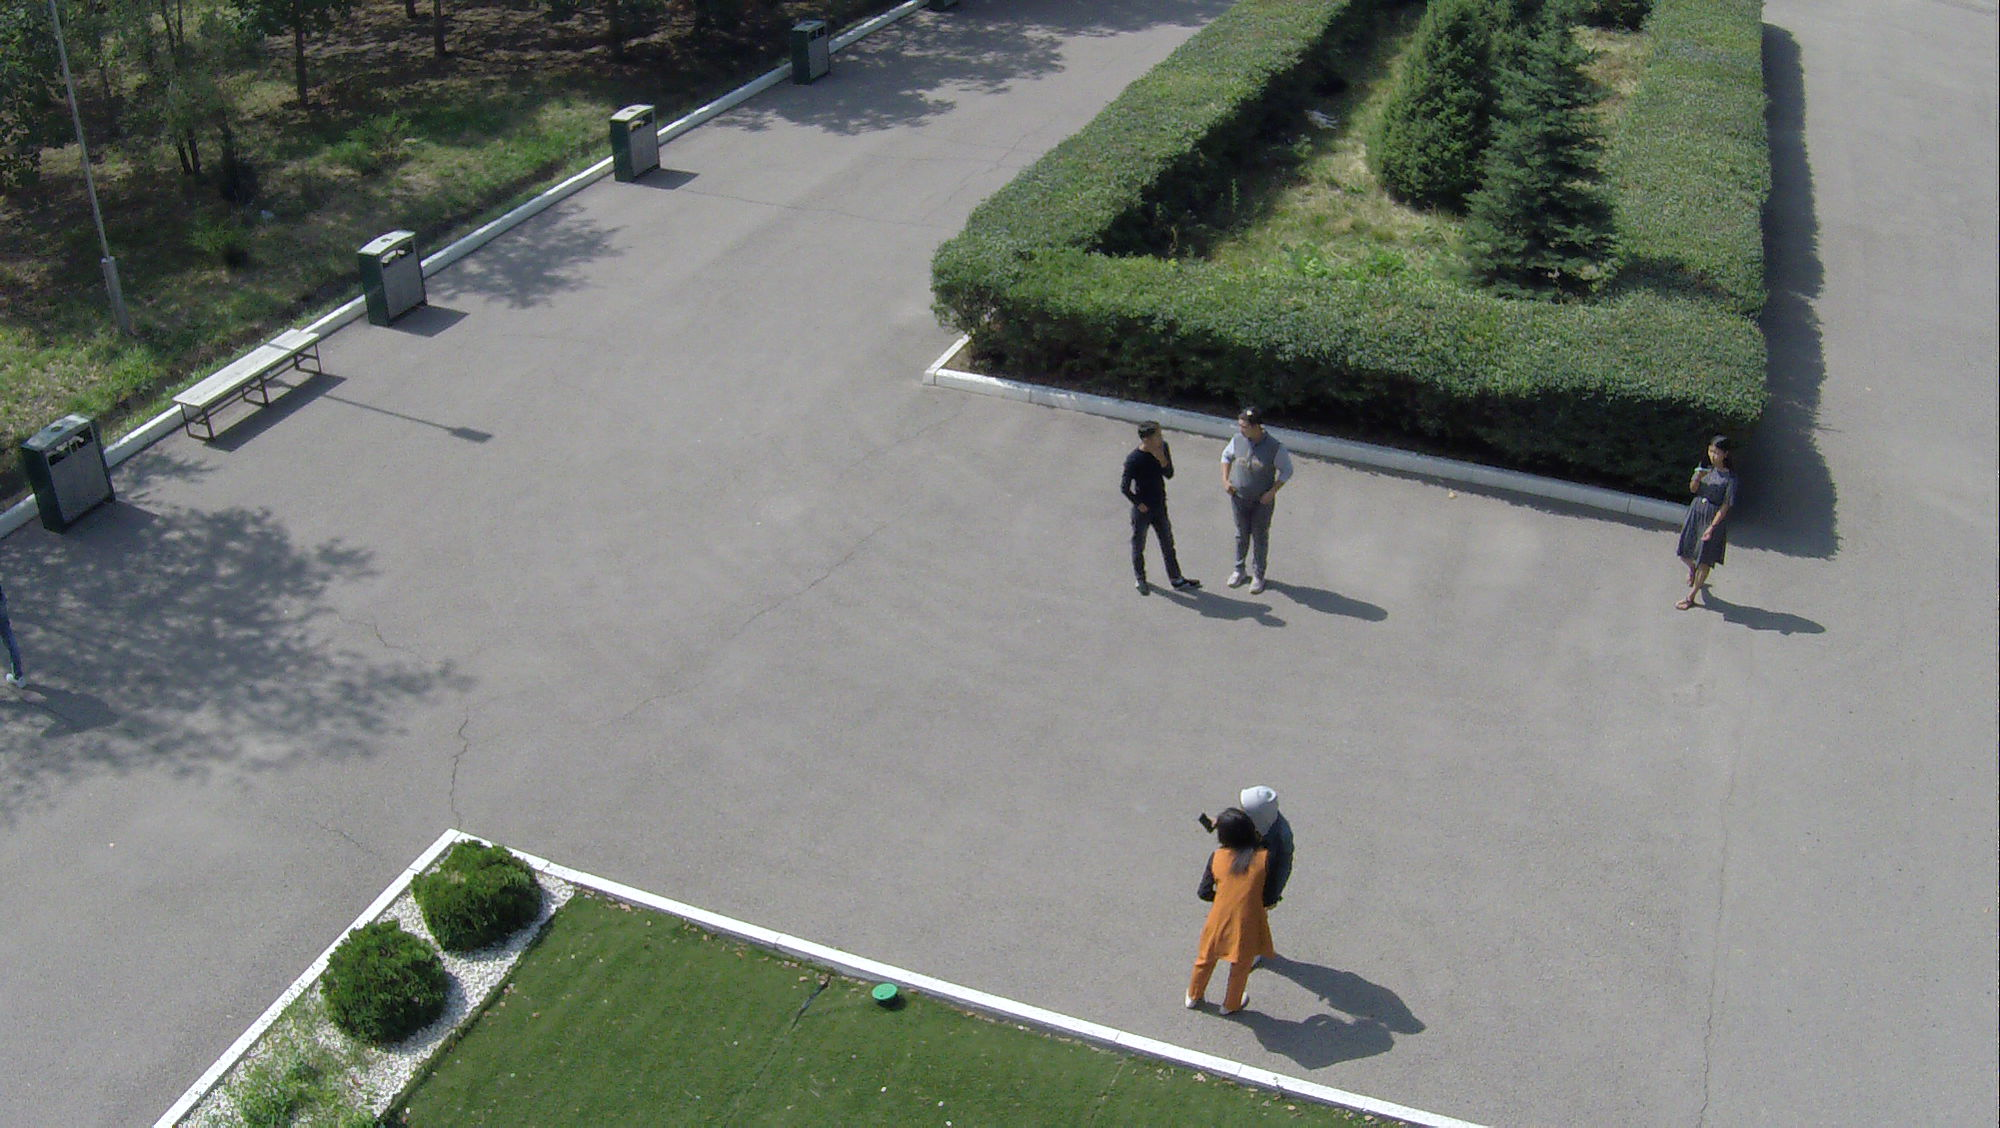person: (1189, 810, 1274, 1028), (1214, 397, 1301, 603), (1118, 416, 1210, 601), (1680, 424, 1749, 610)
